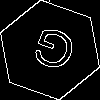G: (25, 25, 80, 81)
